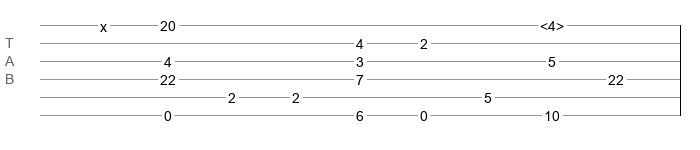0: (164, 108, 172, 118), (420, 108, 428, 118)
10: (544, 108, 560, 118)
2: (228, 90, 236, 100), (292, 90, 300, 100), (420, 36, 428, 46)
20: (160, 18, 176, 28)
22: (160, 72, 176, 82), (608, 72, 624, 82)
3: (356, 54, 364, 64)
4: (164, 54, 172, 64), (356, 36, 364, 46)
5: (484, 90, 492, 100), (548, 54, 556, 64)
6: (356, 108, 364, 118)
7: (356, 72, 364, 82)
harmonic: (540, 18, 564, 28)
x: (100, 19, 107, 27)
